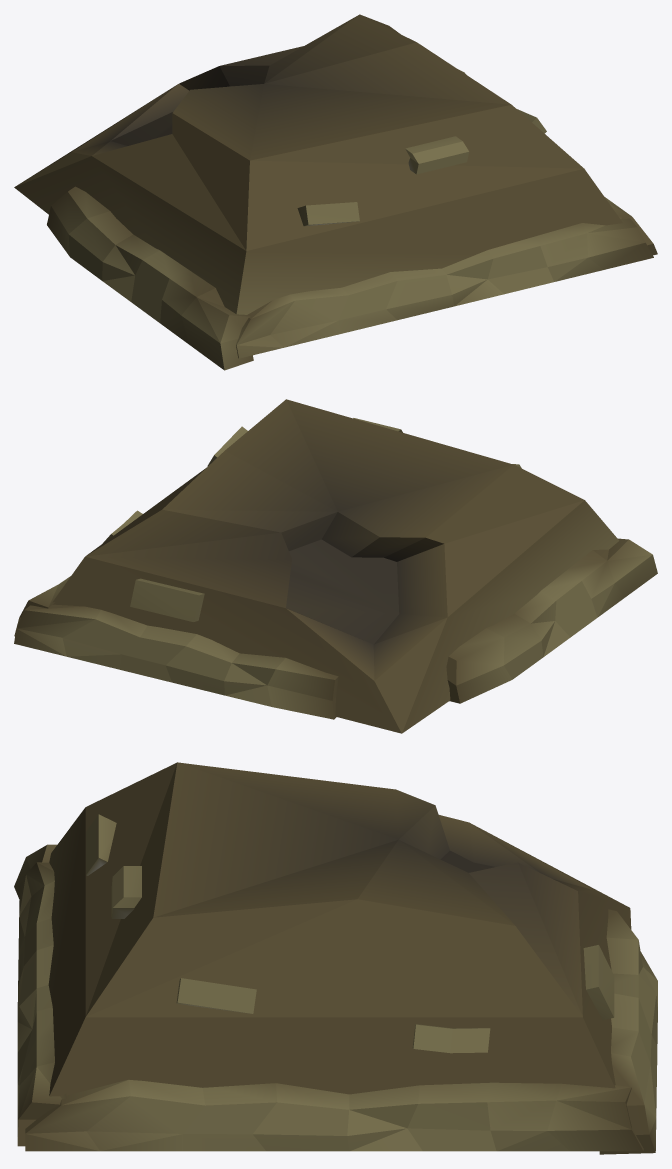
The model's file is PiramideC.fbx.
3 views of the same model, one above another, from view 1: azimuth 30°, elevation 25°; view 2: azimuth 150°, elevation 25°; view 3: azimuth 270°, elevation 25° (orthographic). The views are drawn at different scales.
Visible parts, largest first — view 1: LOD_0; view 2: LOD_0; view 3: LOD_0.
Boxes of the visible parts, x1,y1,x2,y2 form: LOD_0: [14, 14, 657, 370]; LOD_0: [14, 399, 657, 733]; LOD_0: [14, 762, 657, 1154].
Size of what is drawn, in the model's own units: 1684 by 555 by 1677.
